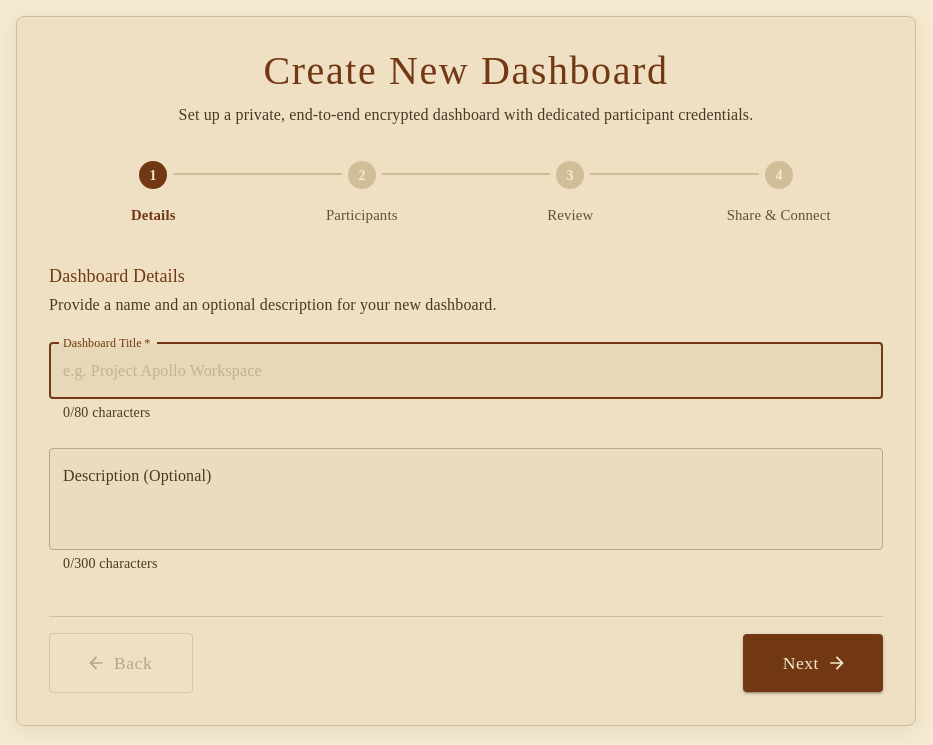
Test: DashboardCreationWizard (/new) › Step 1: Dashboard Details › displays validation error when attempting to advance with empty title
Click the button "Next".
click(813, 663)  # box [743,634,883,692]
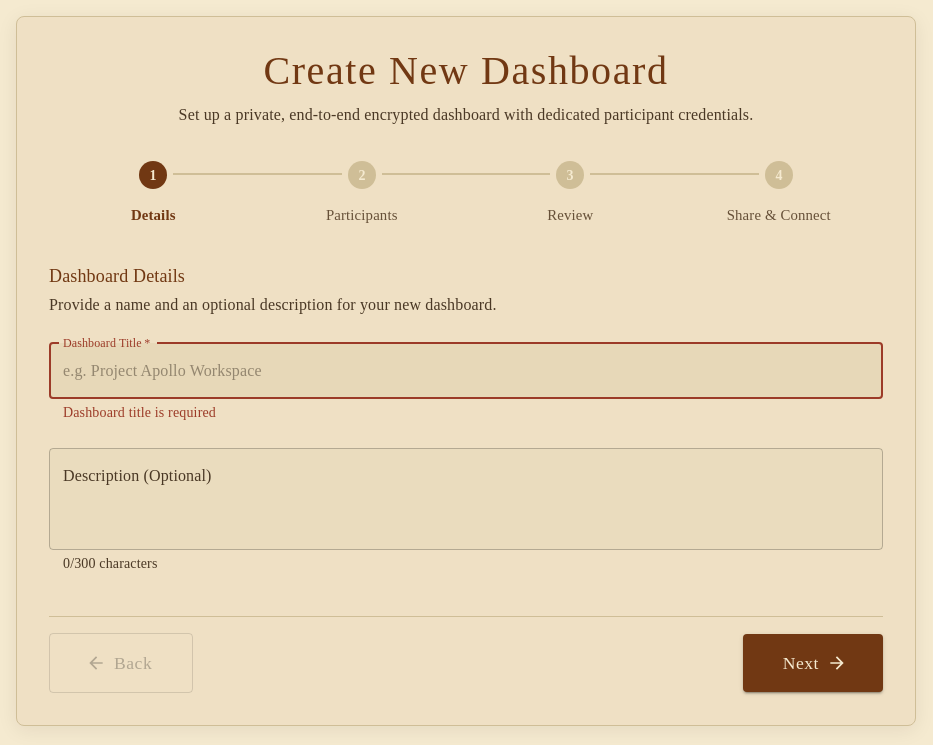
Expected: the heading "Dashboard Details" is shown, [49,266,185,286]
Expected: the text "Dashboard title is required" is shown, [63,405,216,420]
